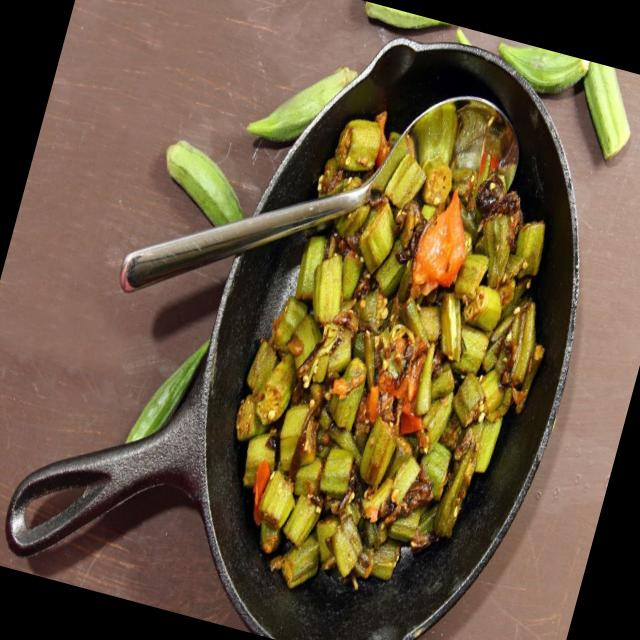BhindiMasala: (198, 71, 600, 634)
